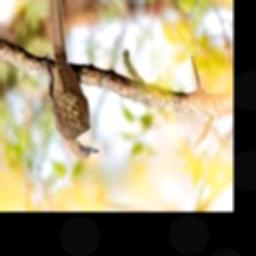Cuckoo: (47, 0, 100, 158)
